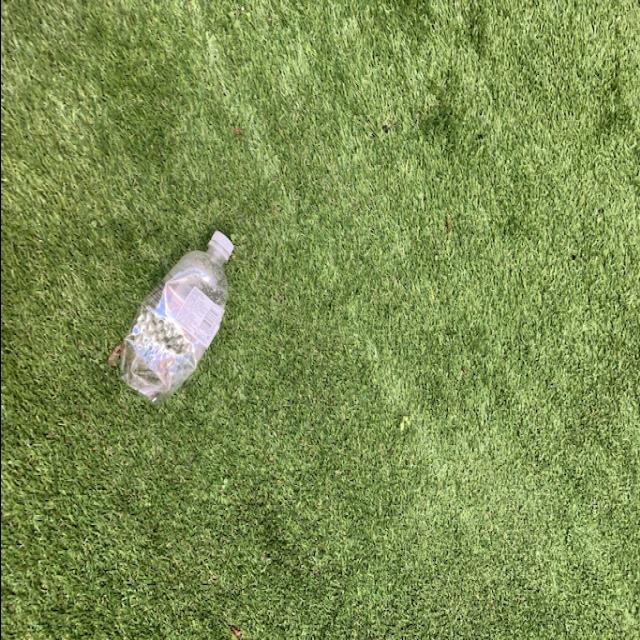PET: (110, 228, 237, 412)
